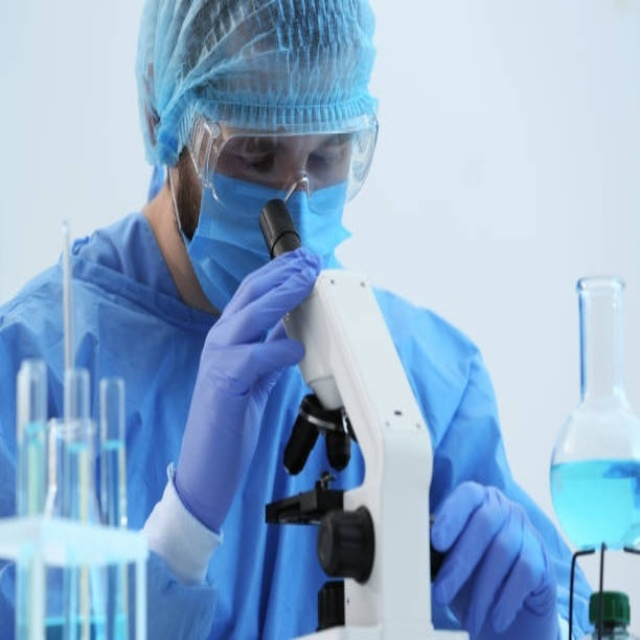Gafas: (184, 106, 377, 209)
Guantes: (153, 248, 324, 561), (430, 478, 558, 640)
Mascara: (181, 138, 358, 311)
